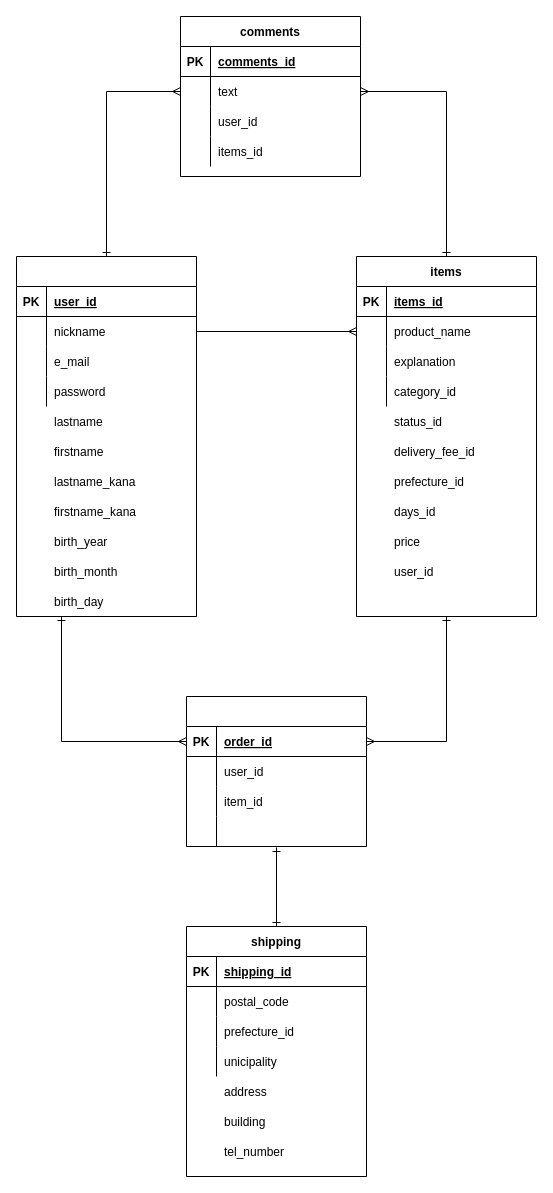
The diagram is 553 pixels wide and 1193 high, and some of its shapes have lost their labels. The shapes that lost their labels are listed below. From the top down, each one's box as (x1, y1, x2, y2) in pixels, then its label:
(16, 256, 196, 616): users
(186, 696, 366, 846): orders
